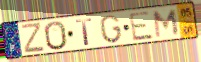E: (128, 10, 156, 43)
G: (99, 14, 124, 45)
M: (152, 8, 180, 39)
O: (43, 20, 69, 52)
T: (74, 17, 94, 47)
Z: (20, 22, 46, 54)
